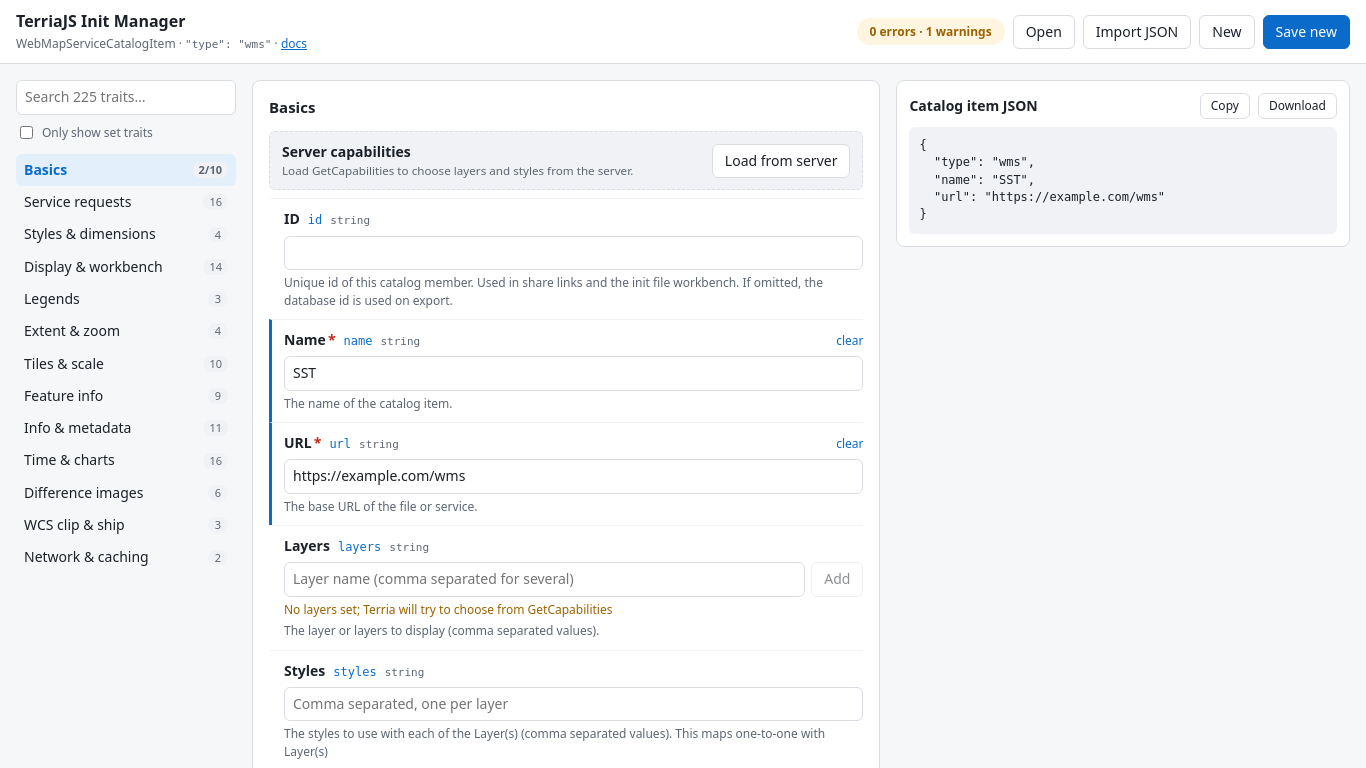
item editor › saves new, then updates with the returned version
The width and height of the screenshot is (1366, 768).
Click the button "Save new" at (1306, 32), box [1262, 15, 1350, 49]
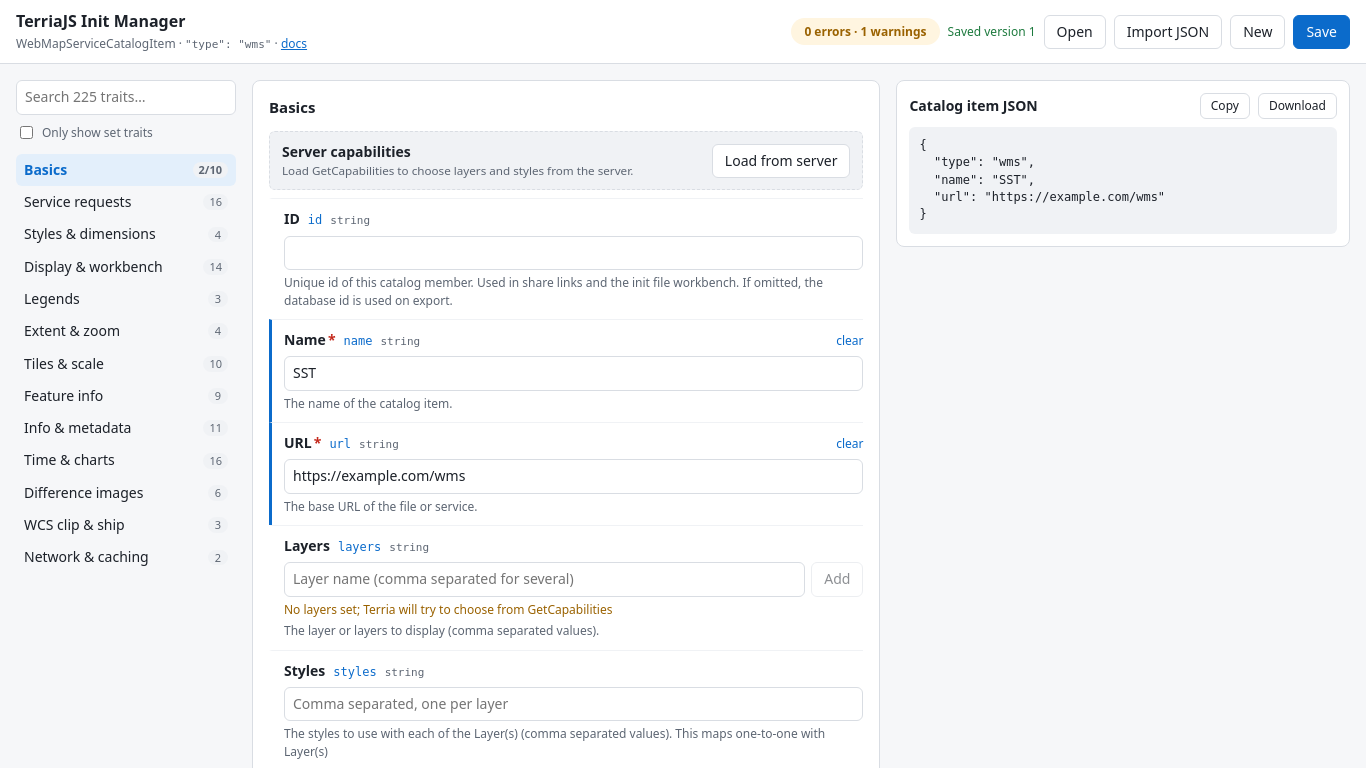
expect the text "Saved version 1" is shown: met, box [948, 23, 1036, 40]
Click the button "Save" at (1322, 32), box [1293, 15, 1350, 49]
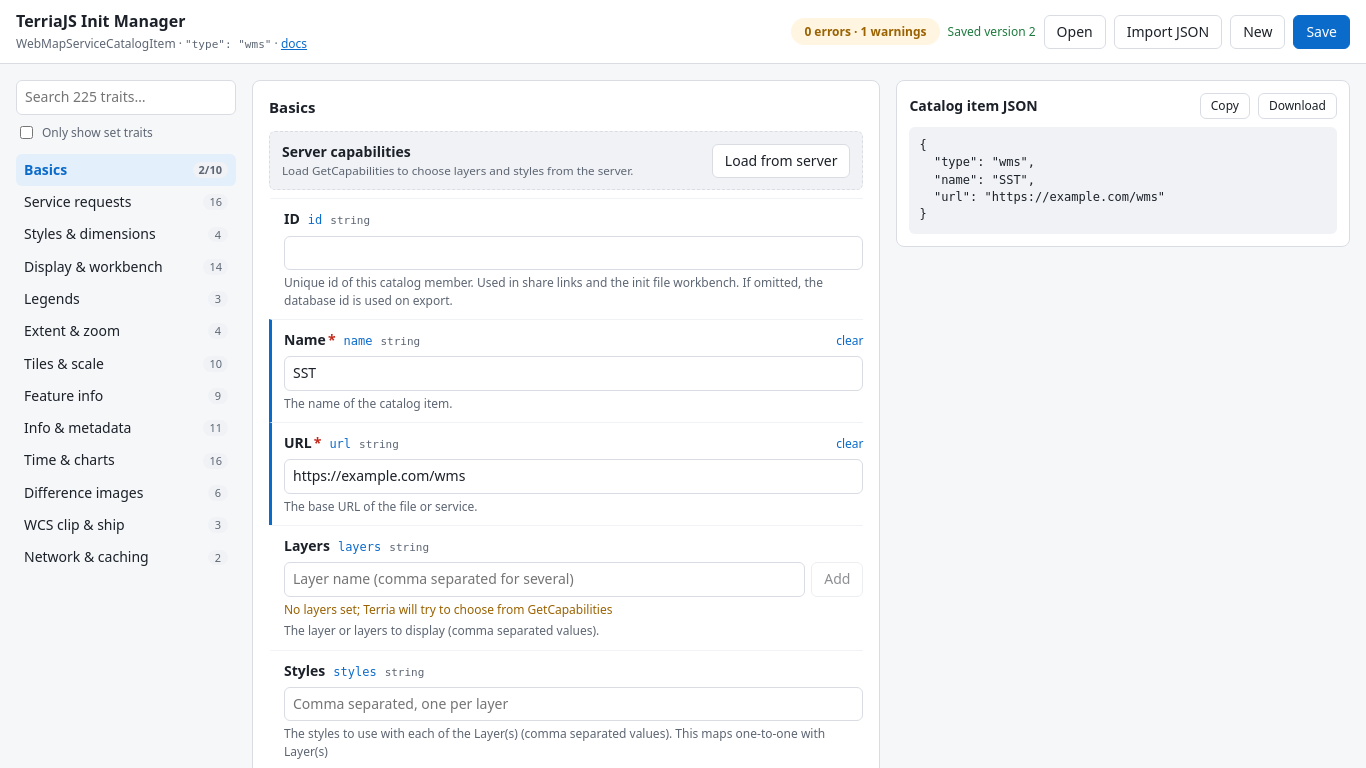
expect the text "Saved version 2" is shown: met, box [948, 23, 1036, 40]
